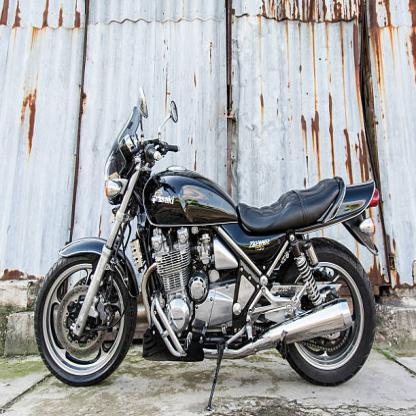Motorcycle: (32, 87, 379, 407)
